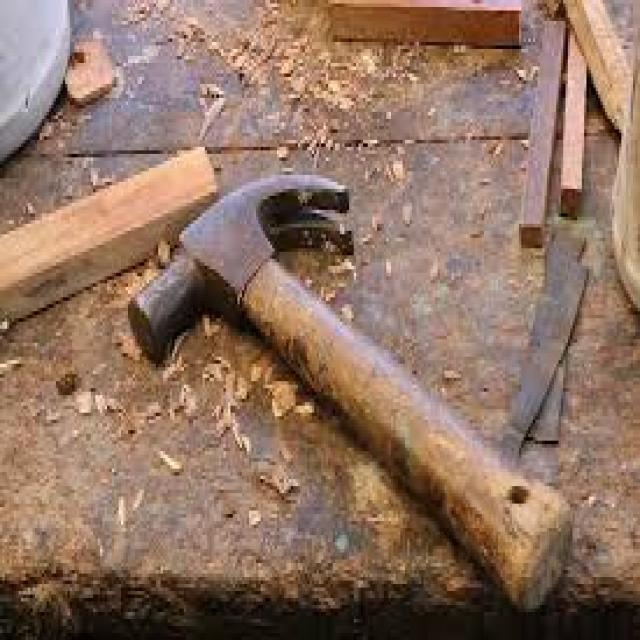Palu: (98, 154, 586, 640)
